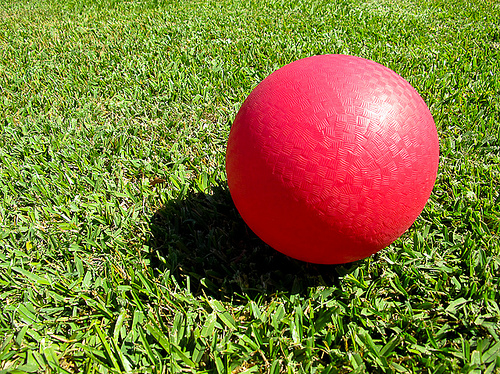red ball: (226, 52, 442, 264)
